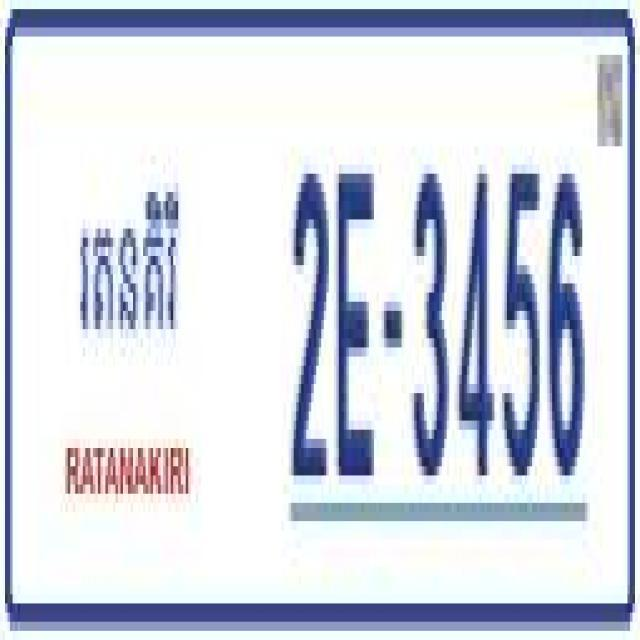Ratanakiri: (75, 174, 188, 354)
